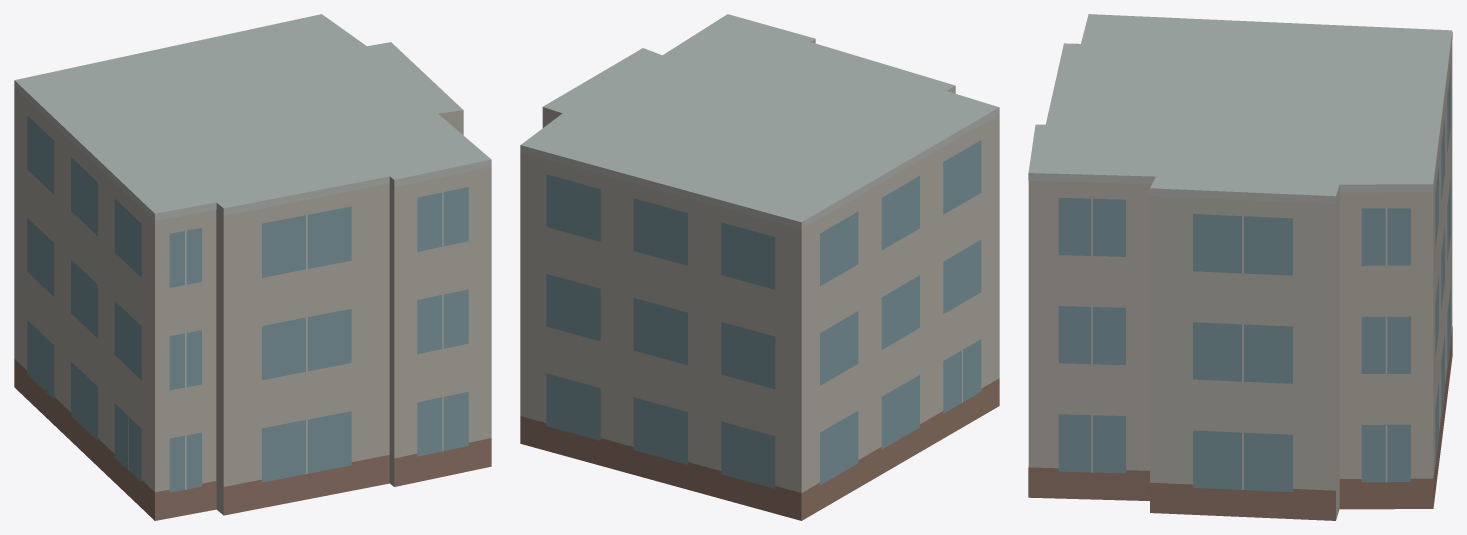
Rendered from survey-upis-32502908.glb.
3 renders of one model, left to right at view 1: azimuth 30°, elevation 25°; view 2: azimuth 150°, elevation 25°; view 3: azimuth 270°, elevation 25°, orthographic. The views are drawn at different scales.
Parts seen in each view (by area): view 1: survey-upis-32502908.tmp; view 2: survey-upis-32502908.tmp; view 3: survey-upis-32502908.tmp.
Boxes of the visible parts, left/top/right/bottom form: survey-upis-32502908.tmp: left=14, top=14, right=491, bottom=520; survey-upis-32502908.tmp: left=520, top=14, right=999, bottom=520; survey-upis-32502908.tmp: left=1028, top=14, right=1452, bottom=520.
Bounding box in the file's own units: 12.28 × 10.2 × 12.08.
